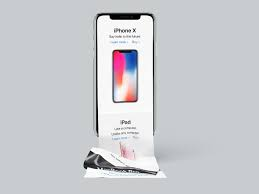iphone: (93, 8, 156, 141)
iphone10: (93, 8, 161, 140)
